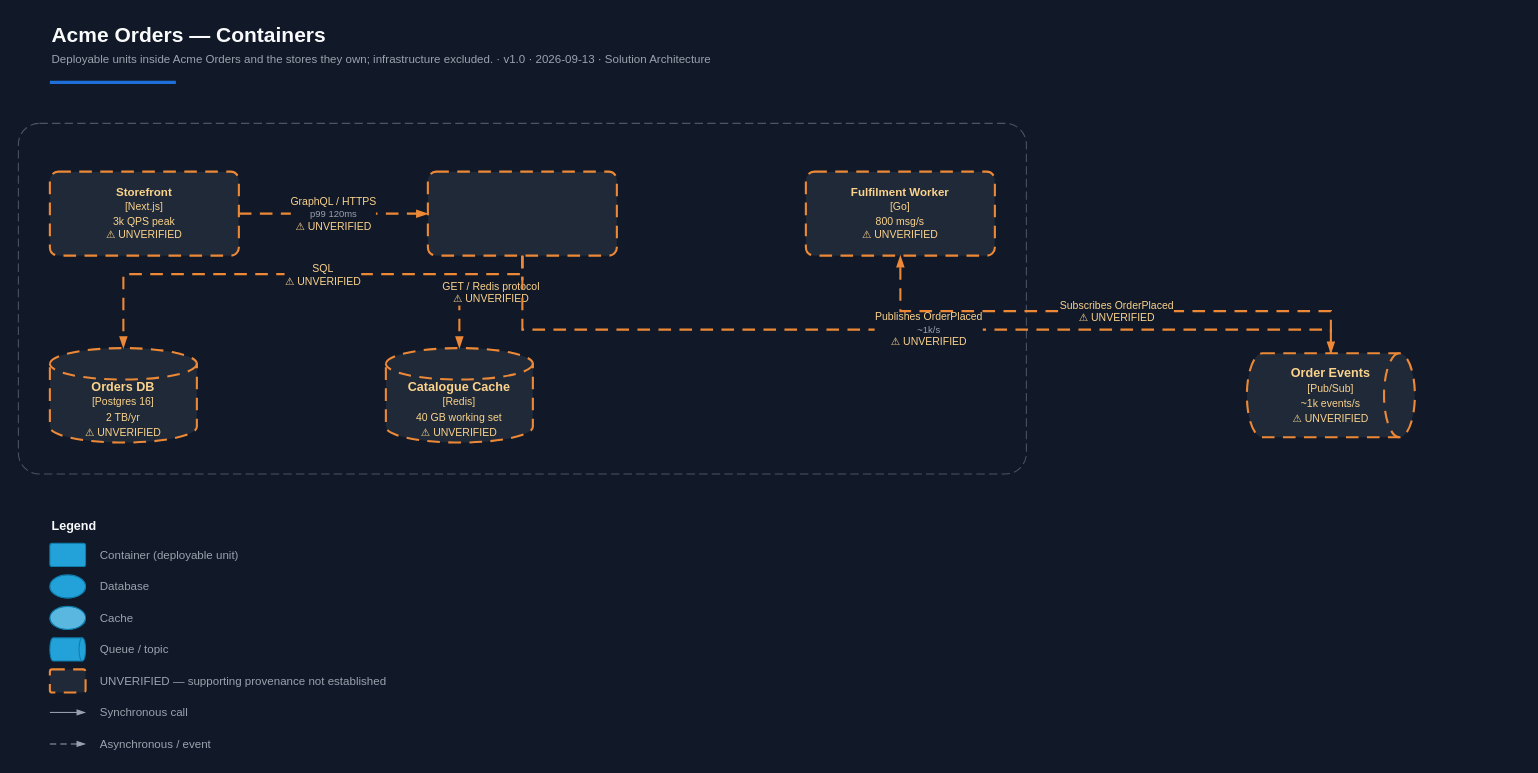
The diagram is 1538 pixels wide and 773 high, and some of its shapes have lost their labels. The shapes that lost their labels are listed below. From the top down, each one's box as (x1, y1, x2, y2) in pixels, then its label:
(426, 170, 617, 256): Order API [Go] 12k QPS peak · p99 200ms ⚠ UNVERIFIED
(17, 122, 1026, 474): GKE — asia-southeast1
